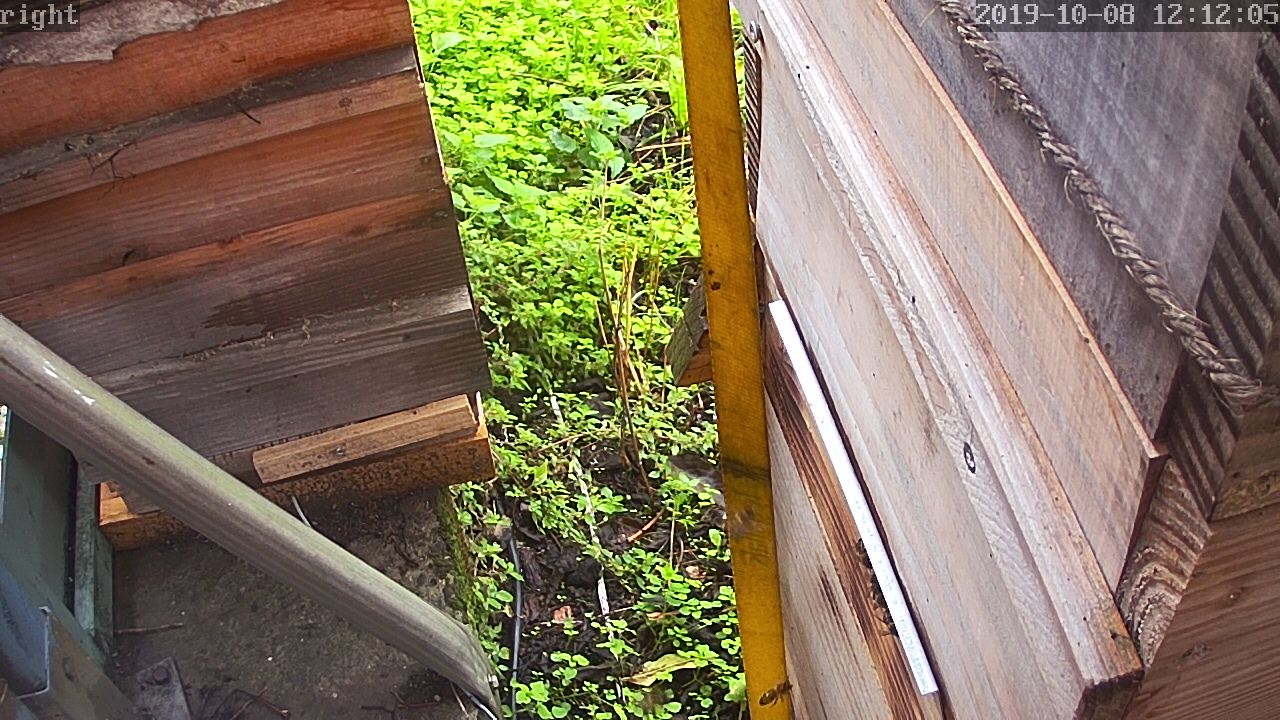bee: (751, 669, 805, 713), (864, 573, 888, 613), (876, 606, 900, 642), (849, 540, 871, 567)
